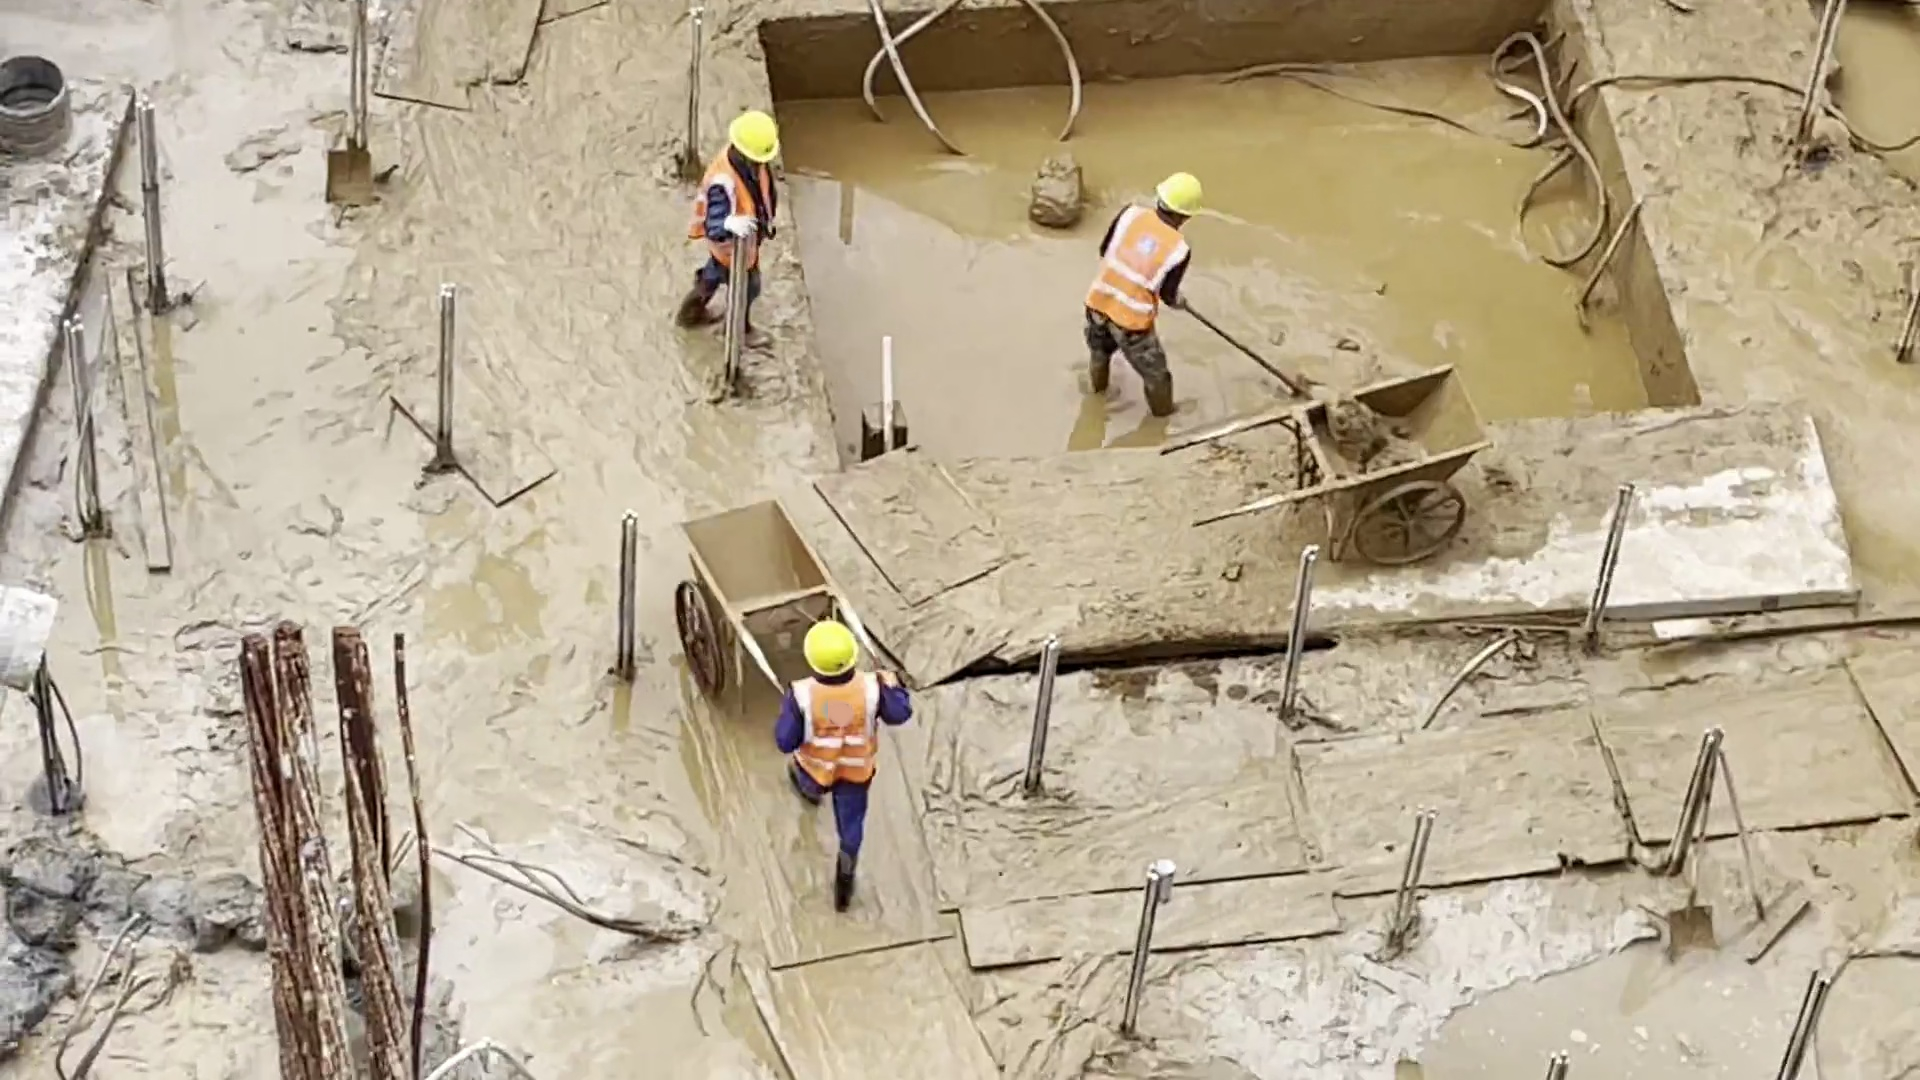helmet: (804, 620, 864, 680), (729, 109, 779, 167), (1157, 170, 1201, 219)
person: (773, 619, 909, 905), (1073, 172, 1200, 414), (671, 108, 778, 356)
vest: (1082, 210, 1200, 328), (791, 661, 880, 786), (688, 152, 781, 269)
